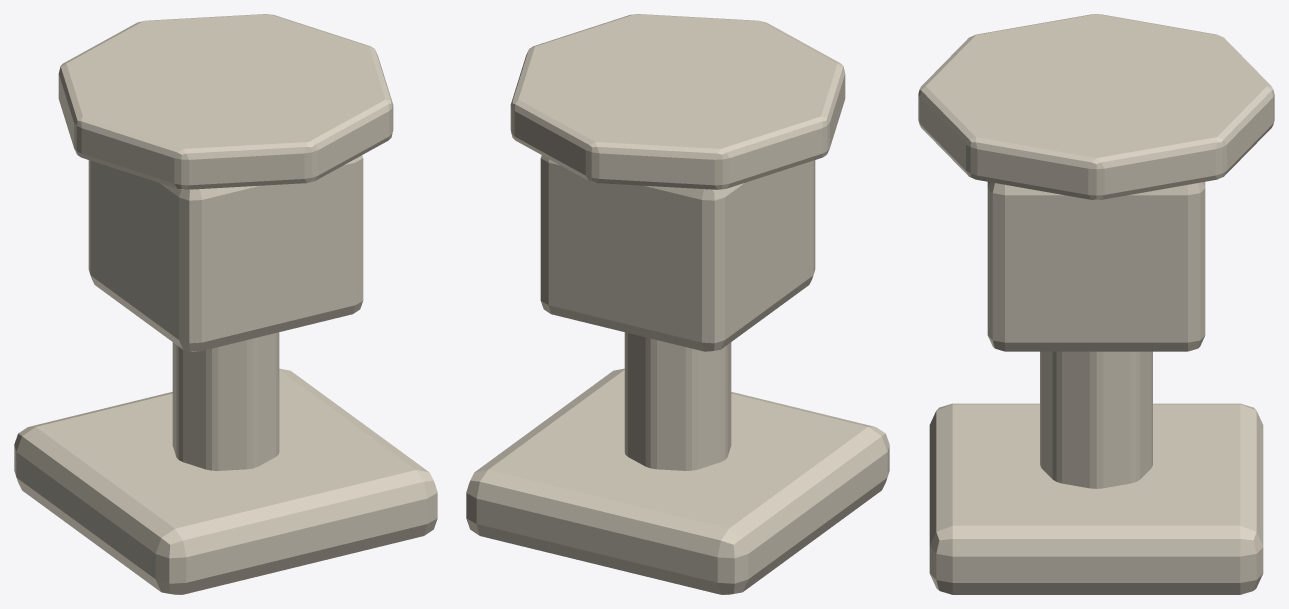
File: stone_lantern.glb
3 views of the same model, side by side, from view 1: azimuth 30°, elevation 25°; view 2: azimuth 150°, elevation 25°; view 3: azimuth 270°, elevation 25° (orthographic). The views are drawn at different scales.
Parts seen in each view (by area): view 1: LanternMaster_foot, LanternMaster_cap, LanternMaster_lamp, LanternMaster_stem; view 2: LanternMaster_foot, LanternMaster_cap, LanternMaster_lamp, LanternMaster_stem; view 3: LanternMaster_foot, LanternMaster_cap, LanternMaster_lamp, LanternMaster_stem.
Boxes of the visible parts, box(x1,y1,x2,y2) form: LanternMaster_foot: box(14, 368, 437, 594); LanternMaster_cap: box(58, 14, 393, 189); LanternMaster_lamp: box(88, 155, 363, 351); LanternMaster_stem: box(172, 332, 279, 470); LanternMaster_foot: box(466, 368, 889, 594); LanternMaster_cap: box(510, 14, 845, 189); LanternMaster_lamp: box(540, 155, 815, 351); LanternMaster_stem: box(624, 332, 731, 470); LanternMaster_foot: box(929, 403, 1263, 594); LanternMaster_cap: box(918, 14, 1274, 200); LanternMaster_lamp: box(987, 182, 1205, 351); LanternMaster_stem: box(1040, 351, 1152, 488).
Size of the model in its own units: 1.23 by 1.7 by 1.23.
